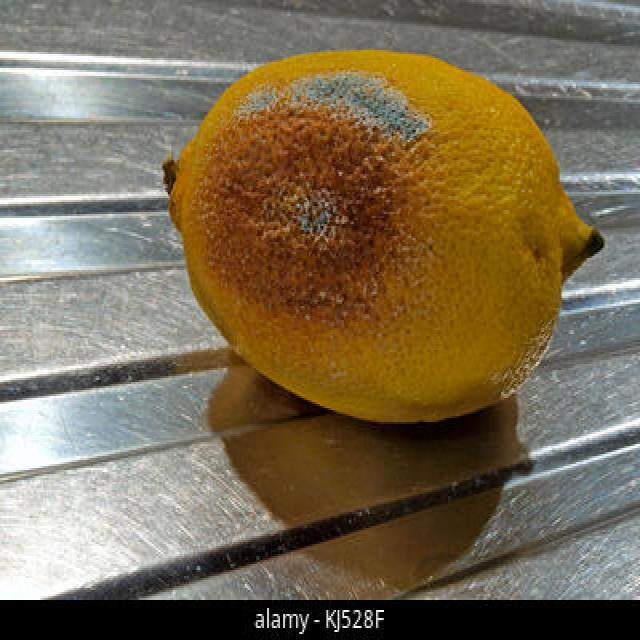overripe: (147, 46, 604, 429)
